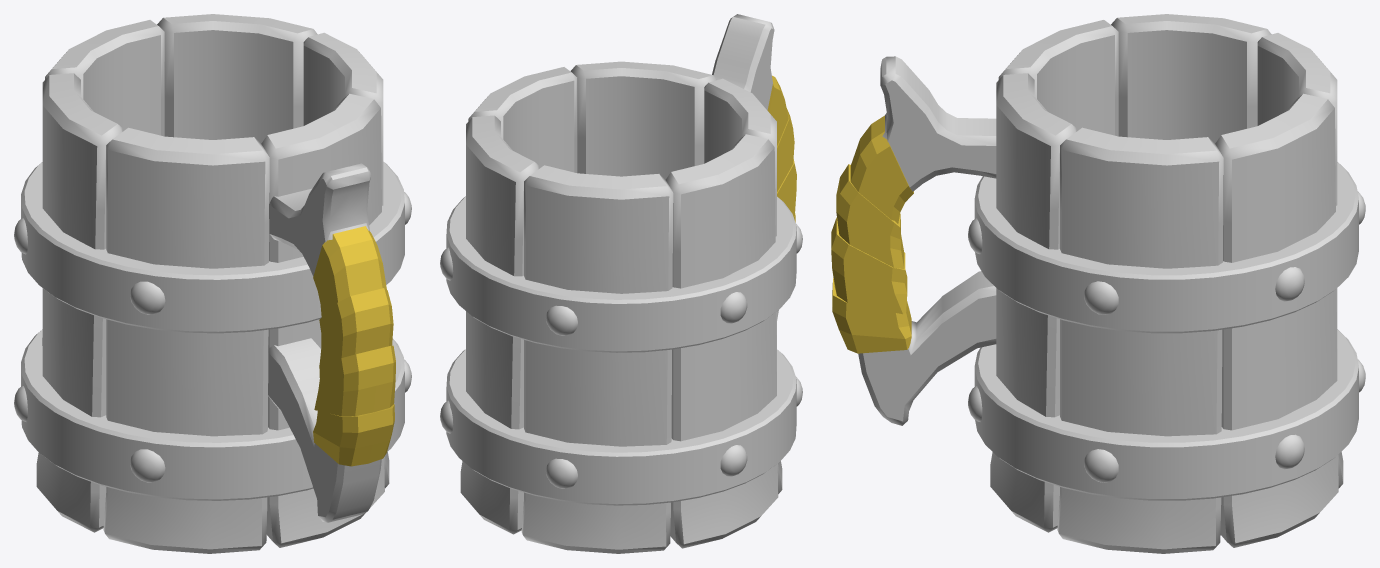
Rendered from Mug_origin.fbx.
3 renders of one model, left to right at view 1: azimuth 30°, elevation 25°; view 2: azimuth 150°, elevation 25°; view 3: azimuth 270°, elevation 25°, orthographic. The views are drawn at different scales.
Parts seen in each view (by area): view 1: Base.017, MetalRing.005, MetalRing.006, Plane.009, Plane.008, Sphere.005, Sphere.006; view 2: Base.017, MetalRing.005, MetalRing.006, Plane.008, Plane.009, Sphere.006, Sphere.005; view 3: Base.017, MetalRing.005, MetalRing.006, Plane.008, Plane.009, Sphere.005, Sphere.006.
Boxes of the visible parts, x1,y1,x2,y2 form: Base.017: [36, 14, 389, 553]; MetalRing.005: [21, 161, 404, 333]; MetalRing.006: [21, 329, 404, 500]; Plane.009: [313, 226, 395, 466]; Plane.008: [268, 163, 381, 522]; Sphere.005: [14, 359, 411, 482]; Sphere.006: [14, 192, 411, 314]; Base.017: [460, 61, 782, 553]; MetalRing.005: [446, 196, 796, 352]; MetalRing.006: [446, 349, 796, 505]; Plane.008: [712, 14, 778, 320]; Plane.009: [767, 75, 796, 222]; Sphere.006: [440, 223, 802, 335]; Sphere.005: [440, 377, 802, 488]; Base.017: [990, 14, 1343, 553]; MetalRing.005: [974, 162, 1358, 333]; MetalRing.006: [974, 329, 1358, 500]; Plane.008: [858, 56, 996, 425]; Plane.009: [831, 115, 913, 353]; Sphere.005: [968, 359, 1365, 482]; Sphere.006: [968, 191, 1365, 314].
Bounding box in the file's own units: 2.21 × 2.64 × 3.09.
